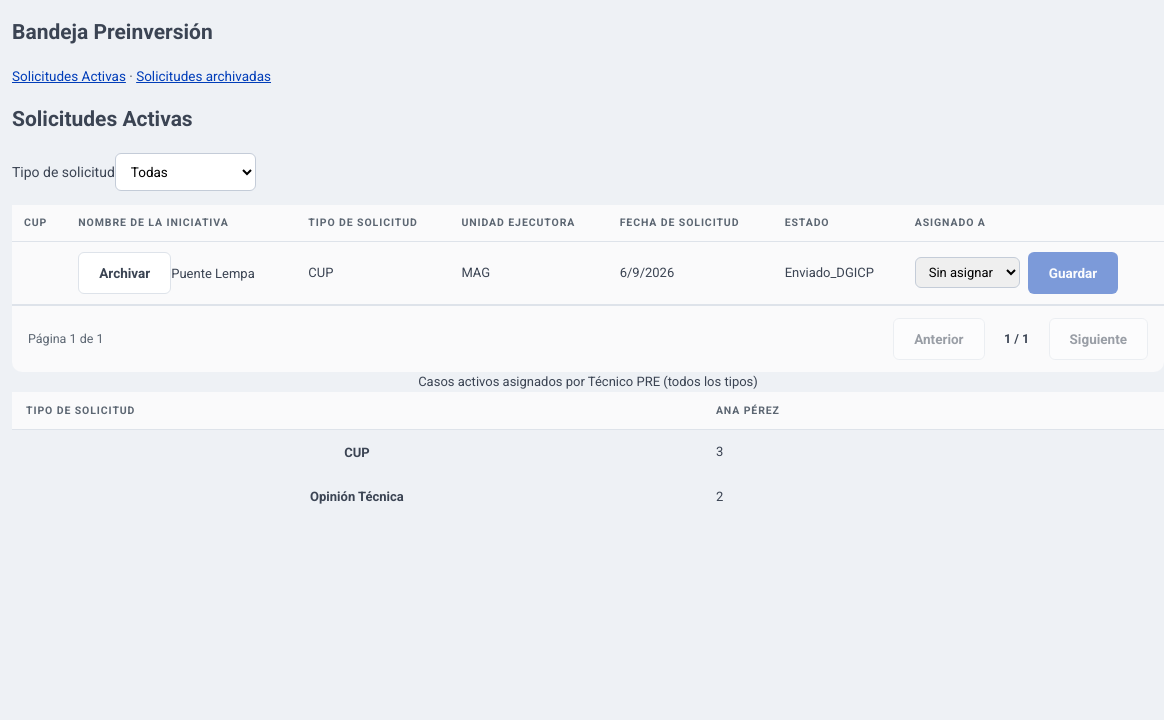
Test case: CU-PRE-02 Bandeja Preinversión › archiva tras confirmar y retira la fila de activas
Expected: the text "Puente Lempa" is shown, [171, 266, 255, 281]
Click the button with aria-label "Archivar Puente Lempa" at (125, 273), box [78, 252, 171, 294]
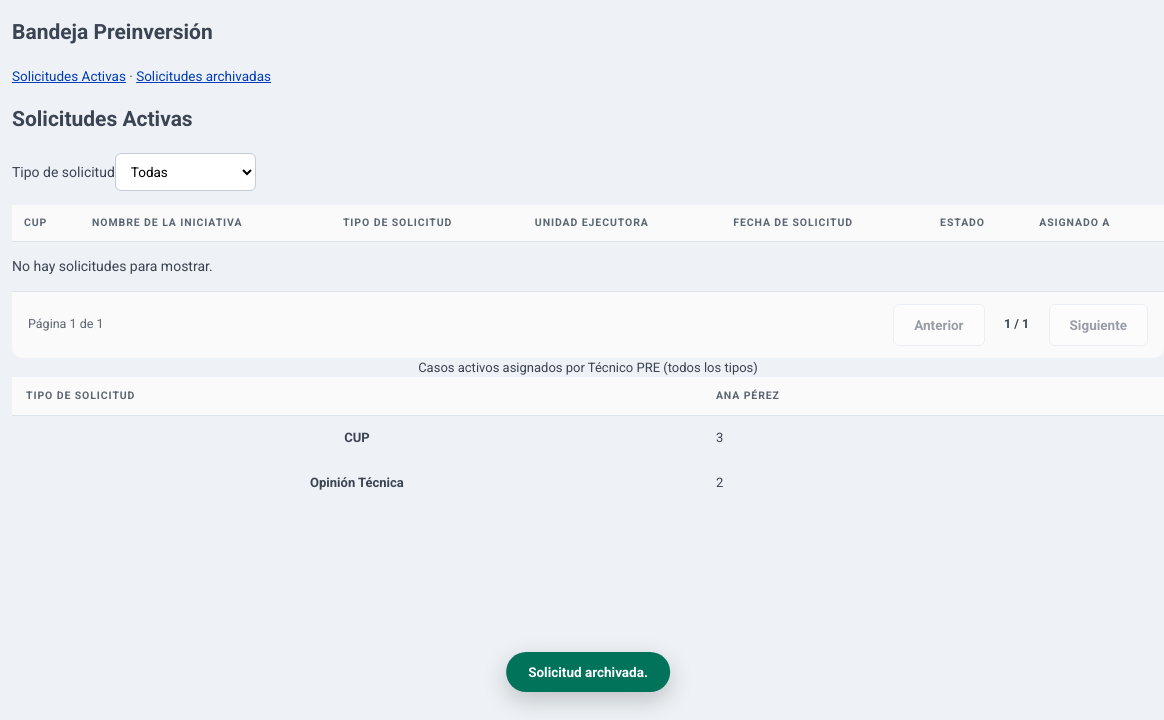
Expected: the text "Solicitud archivada." is shown, [506, 652, 670, 692]
Expected: the text "No hay solicitudes para mostrar." is shown, [12, 258, 213, 274]
